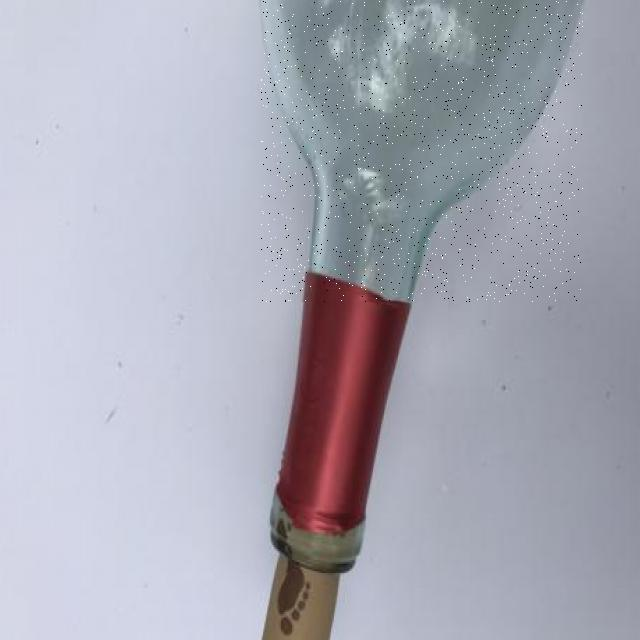glass: (261, 1, 583, 302)
